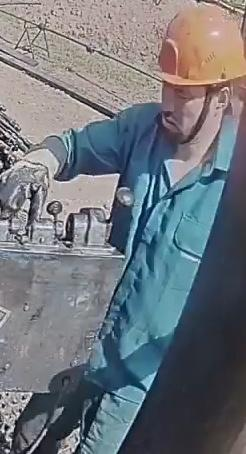gloves: (0, 131, 73, 225)
helmet: (150, 4, 245, 94)
vest: (93, 110, 237, 383)
